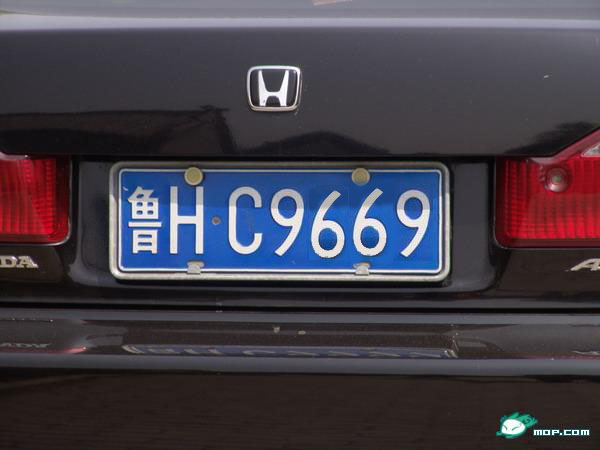plate_number: (117, 167, 438, 271)
